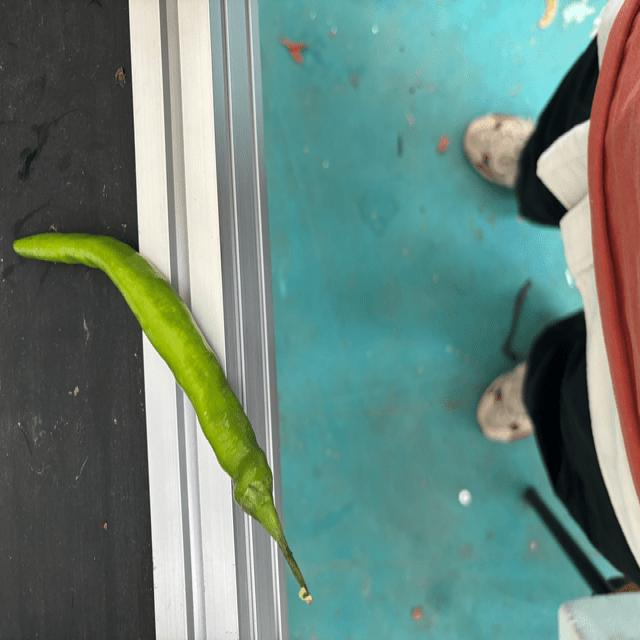chili: (10, 229, 276, 525)
